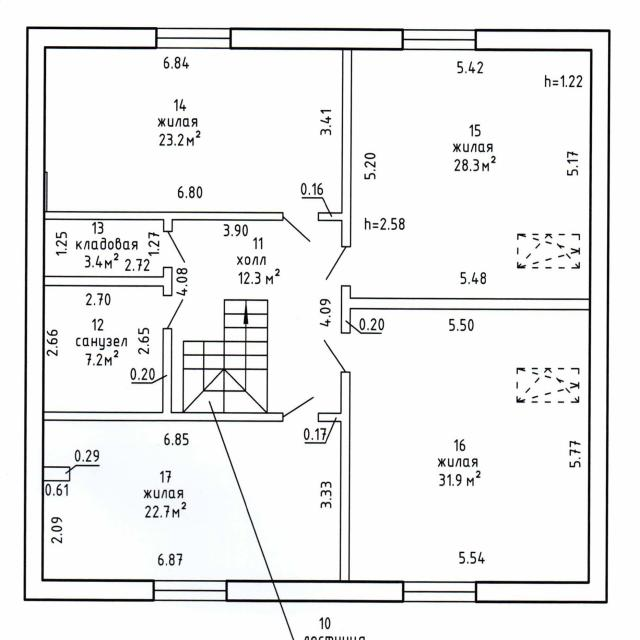Bathrooms: (45, 287, 162, 411)
Corridors: (172, 220, 342, 413), (45, 220, 163, 275)
Doors: (283, 212, 318, 246), (321, 333, 351, 372), (323, 247, 351, 285), (163, 230, 188, 267), (283, 395, 318, 421), (163, 296, 186, 328)
LBwalls: (475, 29, 611, 604), (23, 26, 157, 602), (229, 27, 403, 50), (225, 581, 404, 603), (44, 467, 71, 481)
Offices: (350, 311, 589, 579), (351, 50, 590, 297), (46, 49, 342, 212), (44, 422, 340, 581)
Stairs: (183, 299, 269, 412)
Walls: (44, 328, 284, 422), (340, 284, 590, 334), (318, 371, 351, 582), (318, 50, 353, 247), (44, 211, 284, 232), (44, 266, 172, 297)
Windows: (401, 29, 477, 51), (153, 580, 227, 602), (404, 581, 477, 603), (156, 28, 231, 48)
